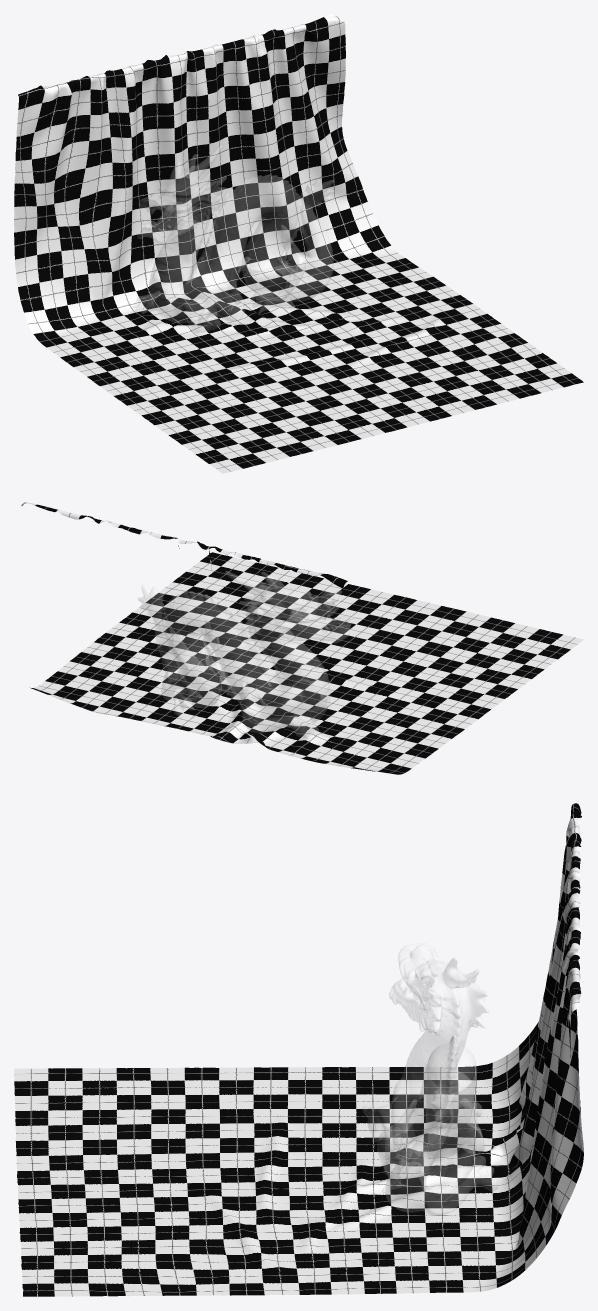
The model's file is dragon.glb.
3 renders of one model, top to bottom at view 1: azimuth 30°, elevation 25°; view 2: azimuth 150°, elevation 25°; view 3: azimuth 270°, elevation 25°, orthographic. The views are drawn at different scales.
Parts seen in each view (by area): view 1: Cloth Backdrop, Dragon; view 2: Cloth Backdrop, Dragon; view 3: Cloth Backdrop, Dragon.
Boxes of the visible parts, bbox=[...] form: Cloth Backdrop: bbox=[14, 14, 583, 473]; Dragon: bbox=[134, 145, 333, 333]; Cloth Backdrop: bbox=[21, 502, 583, 774]; Dragon: bbox=[138, 571, 357, 738]; Cloth Backdrop: bbox=[14, 803, 583, 1296]; Dragon: bbox=[362, 943, 497, 1215].
Bounding box in the file's own units: 6.31 × 3.57 × 6.61.
Materials: 2 (1 with a texture image).
